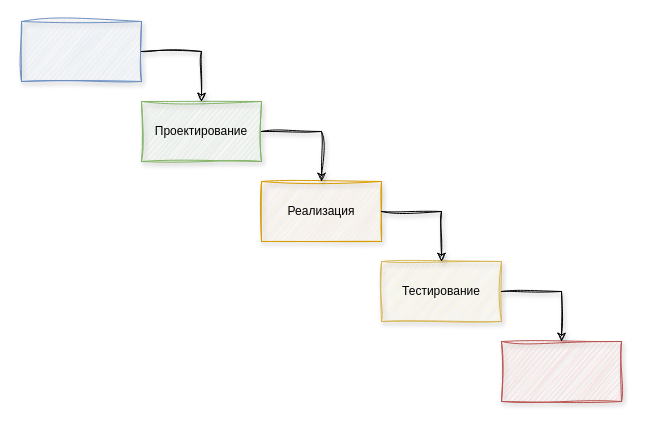
Some shapes in this 645 by 426 pixel diagram are drawn without their labels. The shapes that lost their labels are listed below. From the top down, each one's centre as x and y in pixels, then its label:
At (82,52): "Определение требований".
At (562,372): "Эксплуатация и поддержка".
